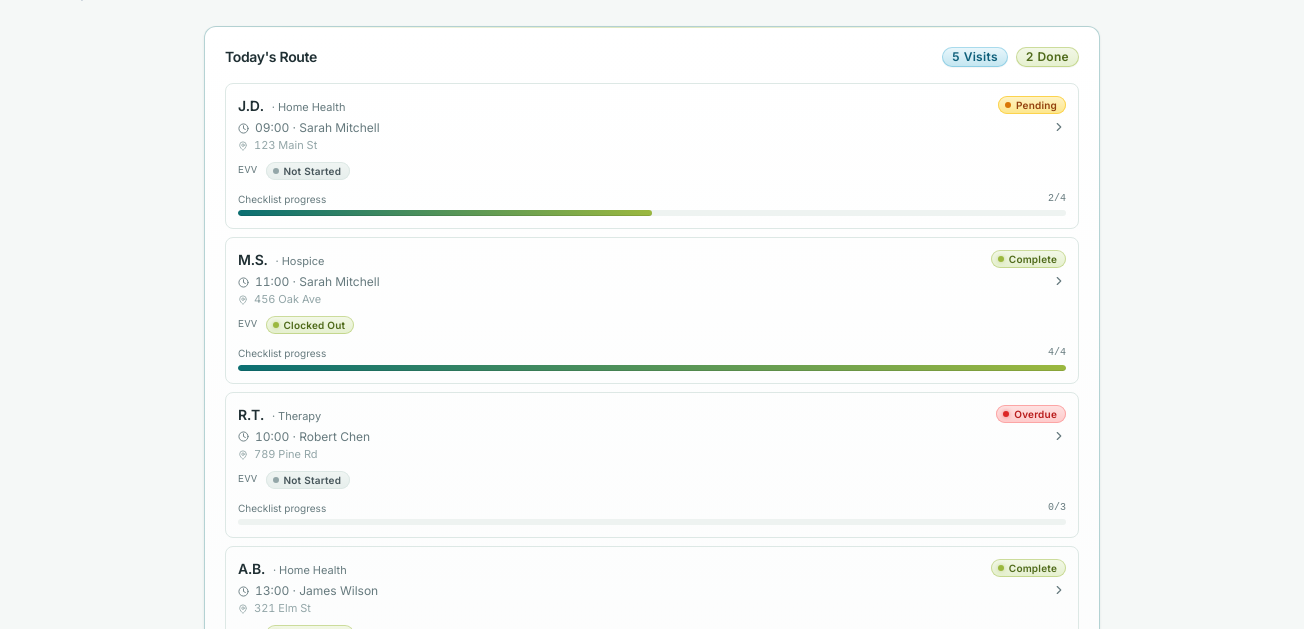
Test: Fix #3 — Field Assistant EVV validation › blocks "End Visit" when checklist is incomplete after clock-in
The width and height of the screenshot is (1304, 629).
Note: Open the first visit
What coordinates should you click on to do the following:
click the text "J.D."
I would click on:
 (251, 106)
Its box is left=238, top=96, right=264, bottom=116.
(page scrolled)
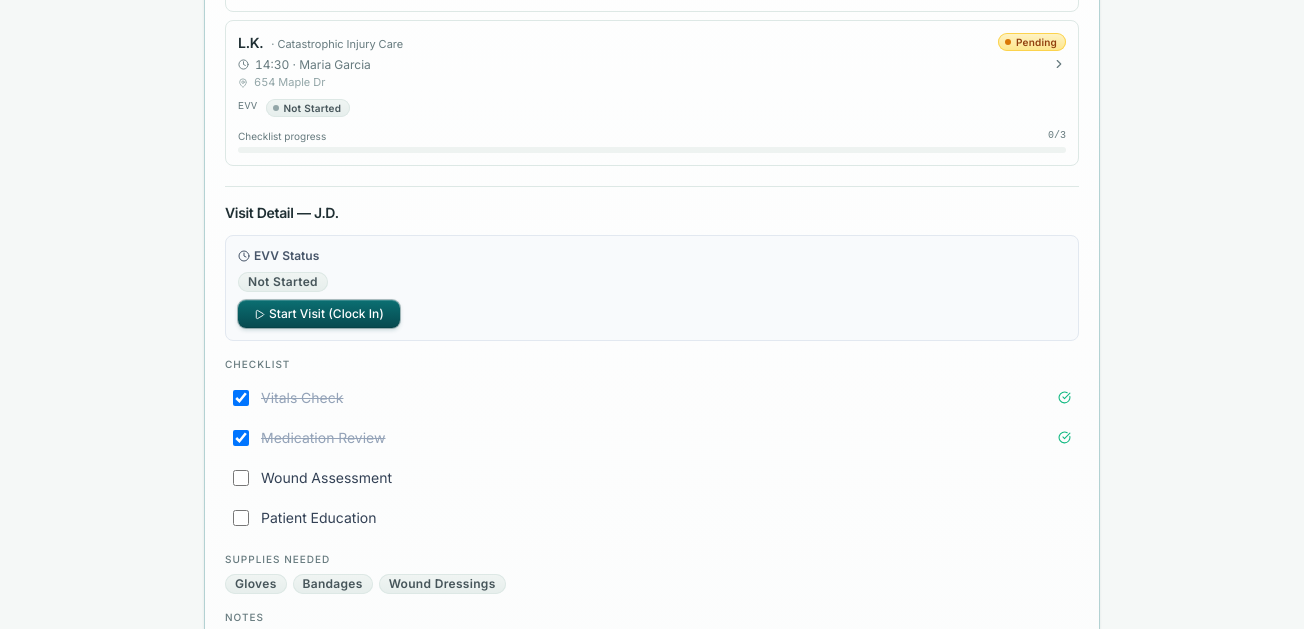
Note: Clock in
What coordinates should you click on to do the following:
click the button "Start Visit (Clock In)"
I would click on:
 (319, 314)
Its box is left=238, top=300, right=400, bottom=328.
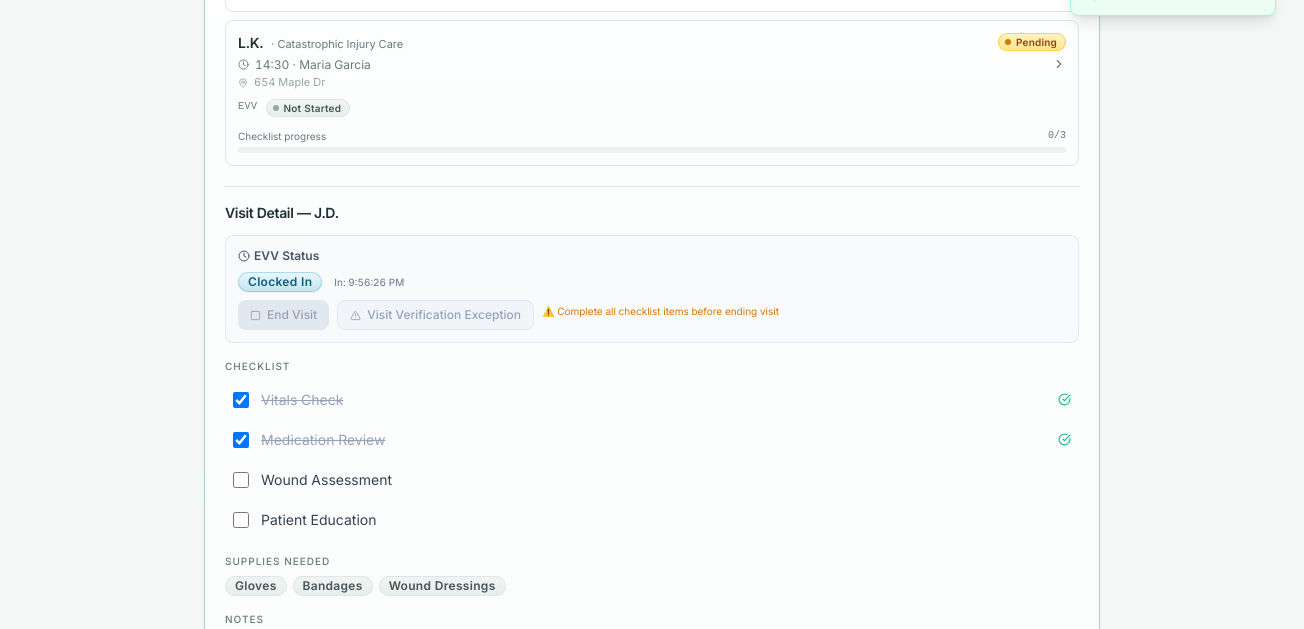
Expected: the button "End Visit" is disabled, left=238, top=300, right=329, bottom=330
Expected: the text with test id "evv-gate-msg" shows "checklist", left=557, top=305, right=779, bottom=317
